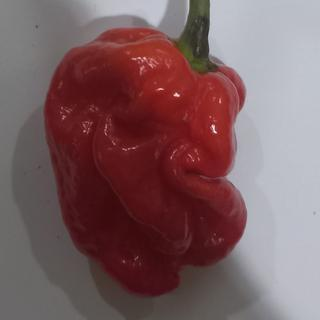Grade-A: (40, 25, 253, 300)
